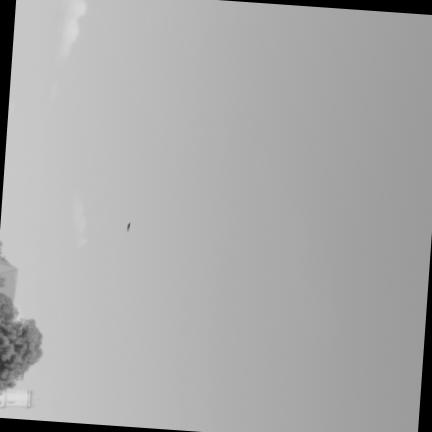Shahed: (126, 223, 130, 231)
